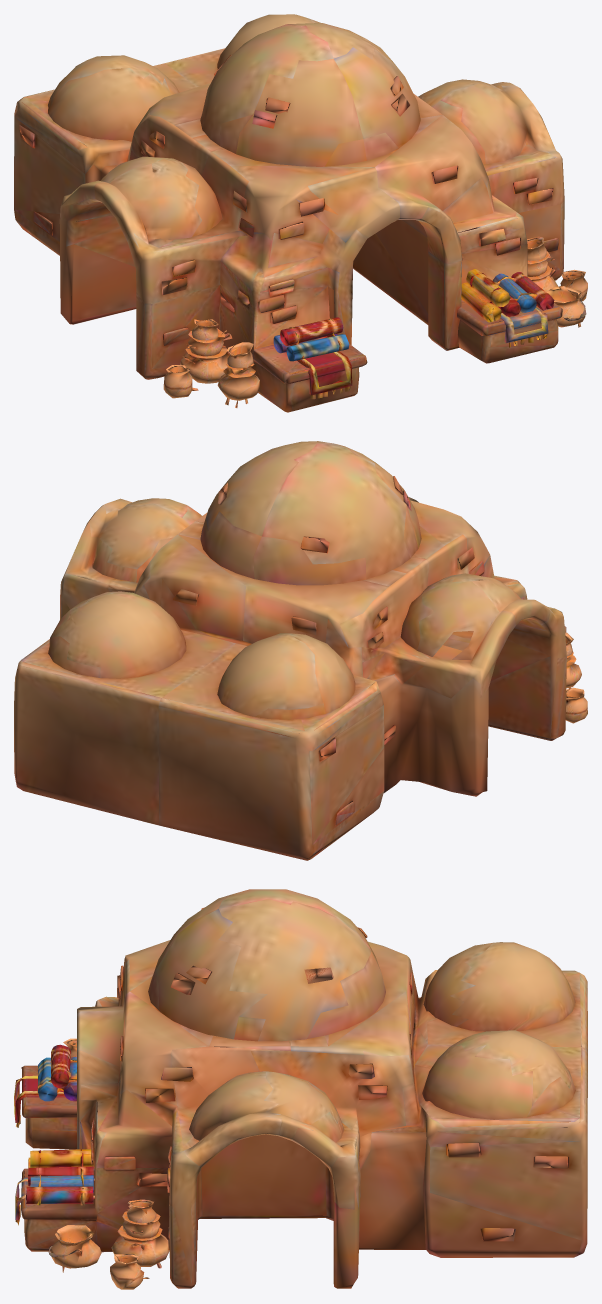
File: toki.glb
3 renders of one model, top to bottom at view 1: azimuth 30°, elevation 25°; view 2: azimuth 150°, elevation 25°; view 3: azimuth 270°, elevation 25°, orthographic. The views are drawn at different scales.
Visible parts, largest first — view 1: geometry_0; view 2: geometry_0; view 3: geometry_0.
Part boxes in pixels (x1,y1,x2,y2): geometry_0: [14, 14, 587, 412]; geometry_0: [14, 441, 587, 860]; geometry_0: [14, 889, 587, 1289].
Size of the model in its own units: 0.8521 by 0.5167 by 0.9448.
Materials: 1 (1 with a texture image).
